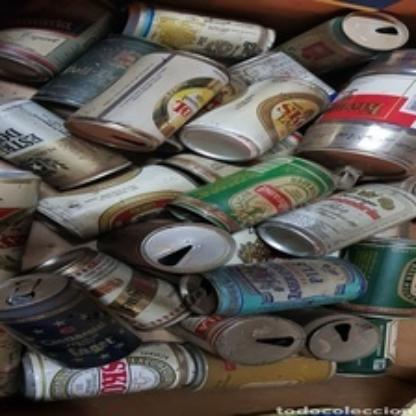Can: (64, 51, 232, 157), (33, 155, 223, 245), (294, 64, 416, 186), (0, 272, 142, 372), (30, 247, 190, 333), (0, 98, 136, 197), (170, 156, 340, 235), (178, 76, 330, 164), (17, 338, 209, 402), (256, 184, 416, 260), (180, 256, 370, 318), (0, 0, 116, 86), (119, 1, 275, 64), (280, 8, 411, 80), (105, 214, 237, 274), (184, 342, 338, 388), (178, 314, 307, 368), (283, 308, 384, 364), (0, 167, 42, 287)
